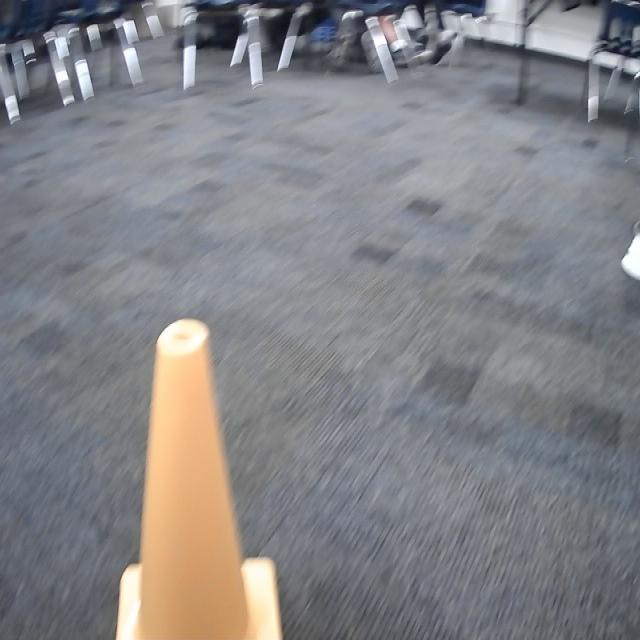cone: (114, 318, 285, 640)
